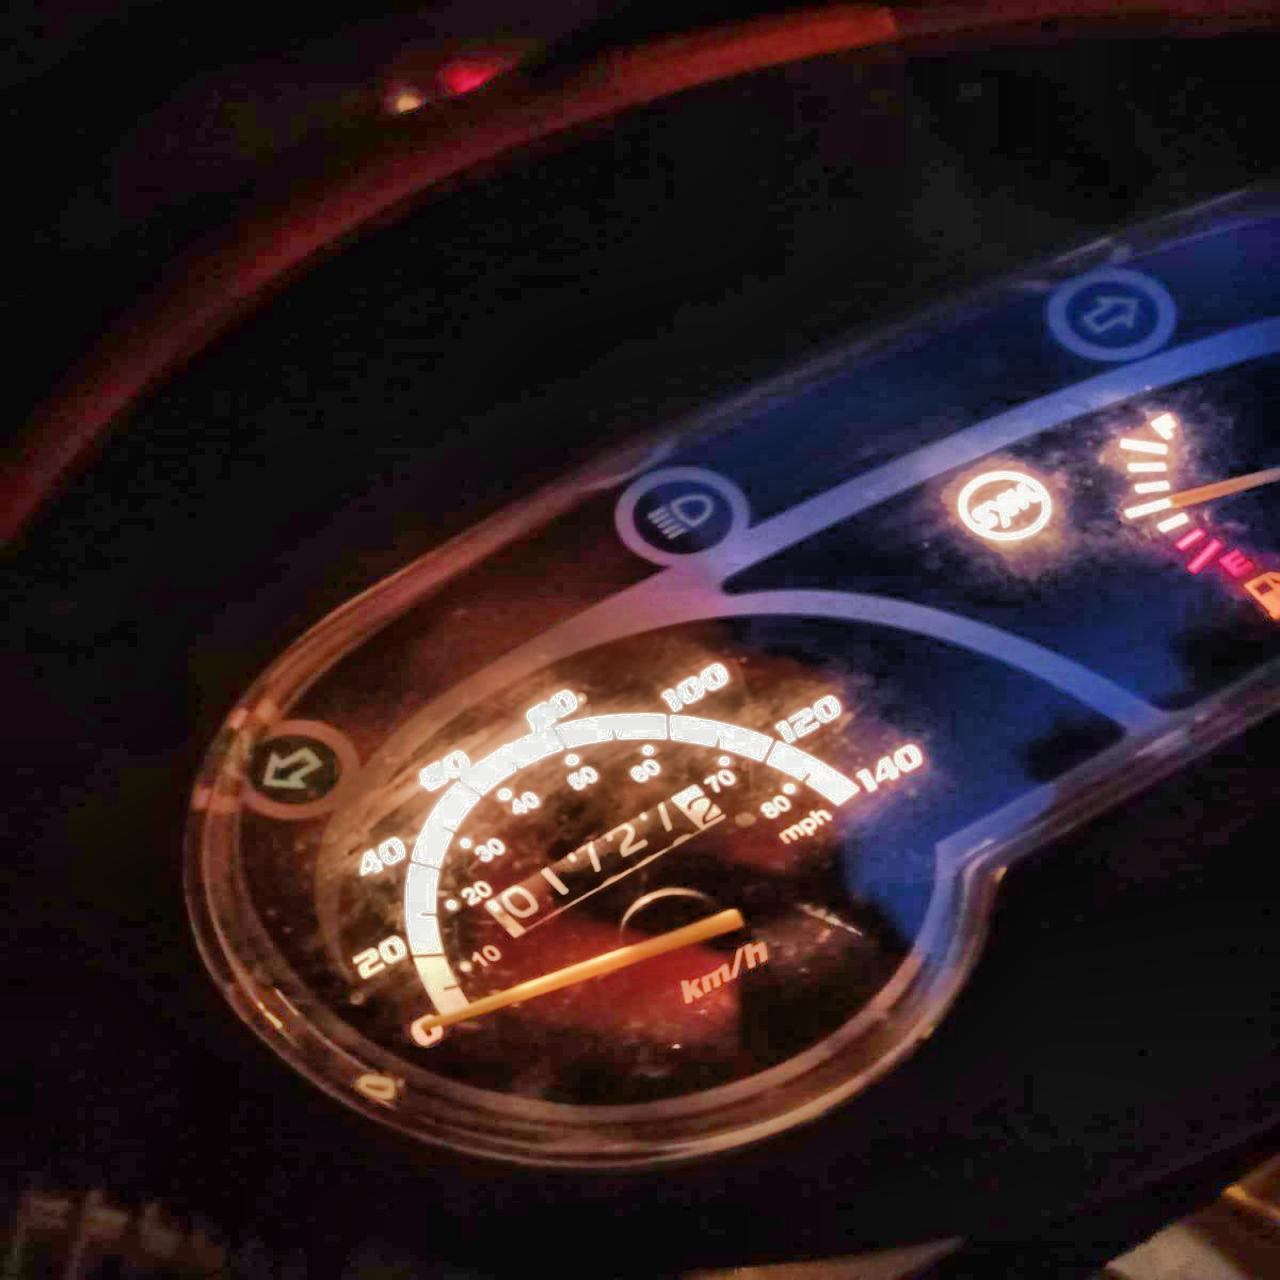0: (498, 885, 540, 921), (520, 790, 542, 809), (472, 879, 490, 896), (485, 838, 504, 853)
1: (530, 859, 571, 898)
2: (599, 824, 647, 855), (682, 792, 724, 826)
3: (471, 844, 492, 864)
4: (510, 796, 527, 818)
5: (565, 772, 584, 791)
7: (632, 799, 679, 833), (564, 839, 602, 873), (703, 772, 720, 795)
odometer: (482, 781, 738, 937)
